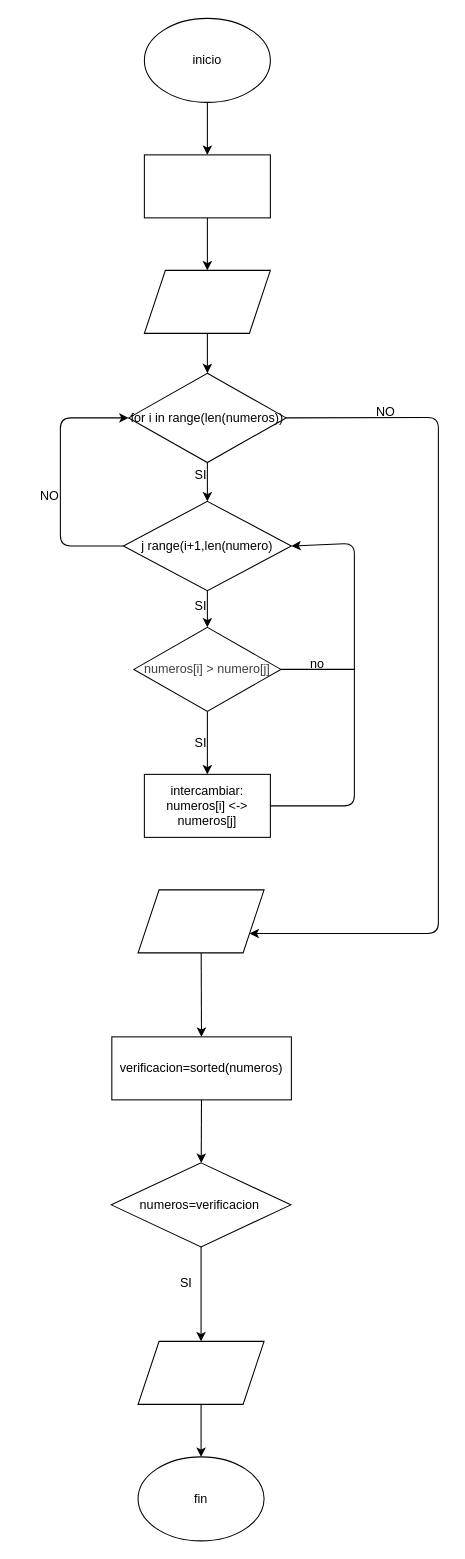
This 465x1559 diagram has some shape labels left out. The shapes that lost their labels are listed below. From the top down, each one's centre as x and y in pixels, then its label:
At pixel 206 186: "numeros=[2,4,3,1,6,7,5,8,9,10]".
At pixel 206 301: "mostrar lista original".
At pixel 200 921: "numeros ordenados".
At pixel 200 1372: "la lista ha sido ordenada correctamente".
